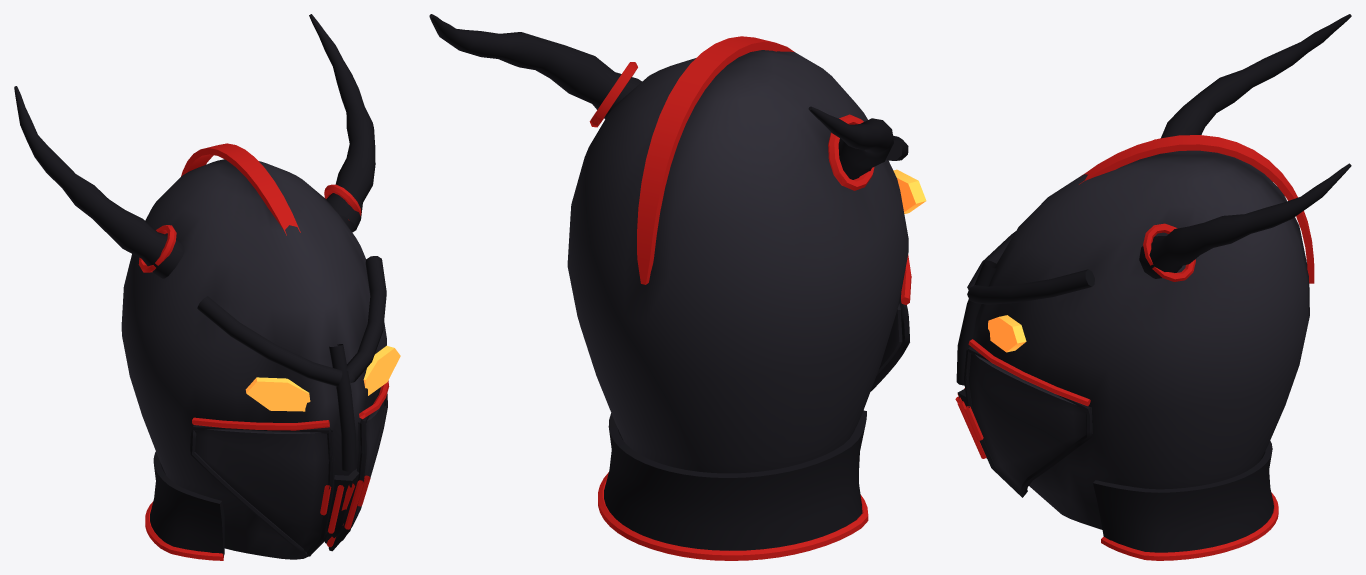
File: h_emberscale.glb
The picture shows the model from 3 angles, left to right: view 1: azimuth 30°, elevation 25°; view 2: azimuth 150°, elevation 25°; view 3: azimuth 270°, elevation 25°; orthographic projection. The views are drawn at different scales.
Parts seen in each view (by area): view 1: EmberHelm; view 2: EmberHelm; view 3: EmberHelm.
Boxes of the visible parts, left/top/right/bottom form: EmberHelm: left=14, top=14, right=400, bottom=560; EmberHelm: left=429, top=14, right=926, bottom=560; EmberHelm: left=955, top=14, right=1351, bottom=560.
Size of the model in its own units: 0.3366 by 0.4151 by 0.3502.
